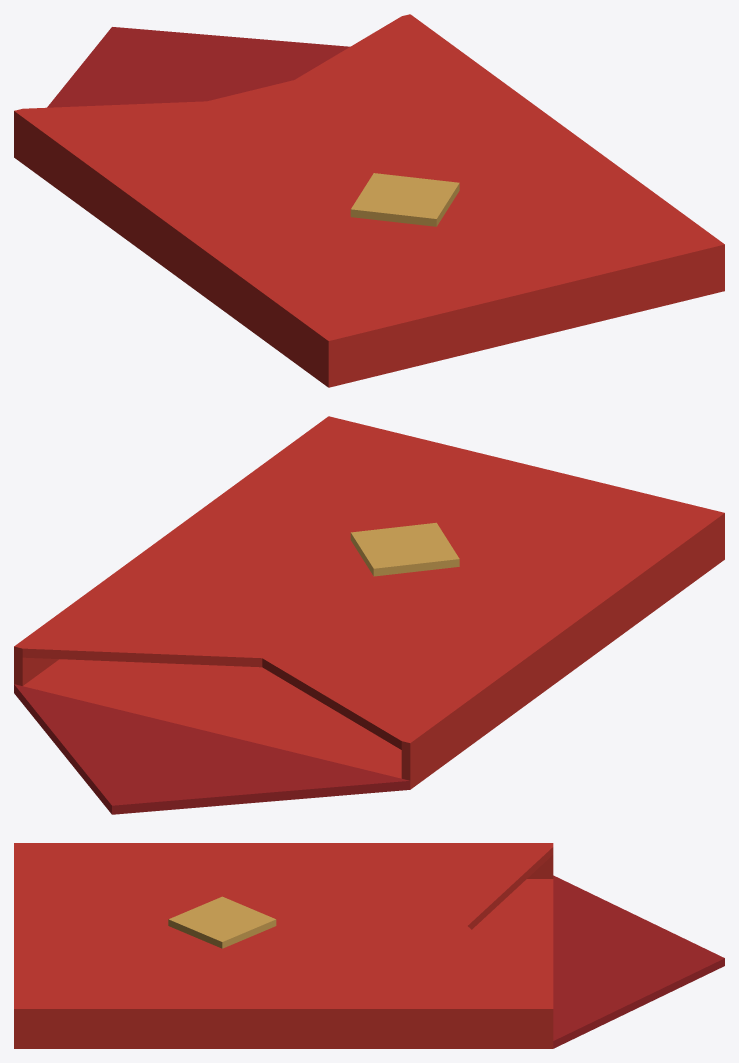
3 renders of one model, top to bottom at view 1: azimuth 30°, elevation 25°; view 2: azimuth 150°, elevation 25°; view 3: azimuth 270°, elevation 25°, orthographic. The views are drawn at different scales.
Parts seen in each view (by area): view 1: ContinuousVNotchGiftEnvelopeShell, CompleteUnfoldedTriangularClosingFlap, FullDiamondFrontSeal; view 2: ContinuousVNotchGiftEnvelopeShell, CompleteUnfoldedTriangularClosingFlap, FullDiamondFrontSeal; view 3: ContinuousVNotchGiftEnvelopeShell, CompleteUnfoldedTriangularClosingFlap, FullDiamondFrontSeal.
Part boxes in pixels (x1,y1,x2,y2): ContinuousVNotchGiftEnvelopeShell: (14,14,724,387); CompleteUnfoldedTriangularClosingFlap: (47,27,349,107); FullDiamondFrontSeal: (350,173,459,226); ContinuousVNotchGiftEnvelopeShell: (14,416,724,789); CompleteUnfoldedTriangularClosingFlap: (14,684,410,814); FullDiamondFrontSeal: (350,522,459,576); ContinuousVNotchGiftEnvelopeShell: (14,843,553,1048); CompleteUnfoldedTriangularClosingFlap: (553,875,724,1048); FullDiamondFrontSeal: (168,896,276,948).
Size of the model in its own units: 0.32 by 0.042 by 0.58.
